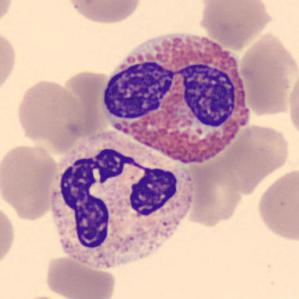Eosinophil: (97, 20, 255, 173), (44, 128, 200, 280)
RBC: (14, 77, 86, 153), (237, 30, 296, 115), (0, 142, 59, 221), (182, 164, 245, 233), (198, 0, 274, 50), (228, 122, 292, 176), (43, 254, 117, 299), (255, 166, 298, 243), (62, 72, 114, 134), (64, 0, 143, 26), (0, 26, 19, 97), (0, 200, 17, 270), (285, 66, 299, 140), (0, 0, 15, 30)
